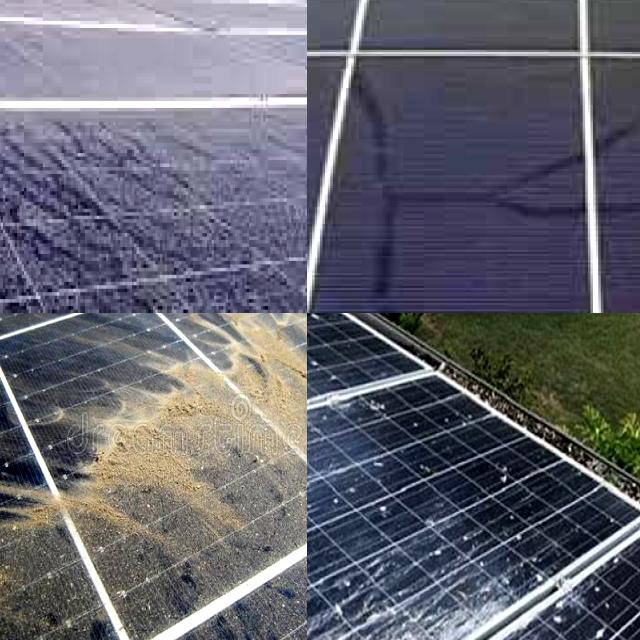bird: (307, 560, 340, 640), (357, 615, 460, 640), (307, 458, 343, 524), (476, 458, 520, 496), (578, 611, 607, 640)
dust: (80, 368, 234, 544), (24, 132, 184, 265), (0, 379, 78, 640), (67, 557, 256, 640), (144, 313, 307, 392), (0, 123, 63, 289), (0, 313, 117, 402), (217, 124, 307, 231), (0, 110, 35, 313), (247, 313, 307, 418), (226, 255, 307, 313), (27, 293, 208, 313)
shadow: (335, 118, 582, 313), (590, 70, 640, 276)
